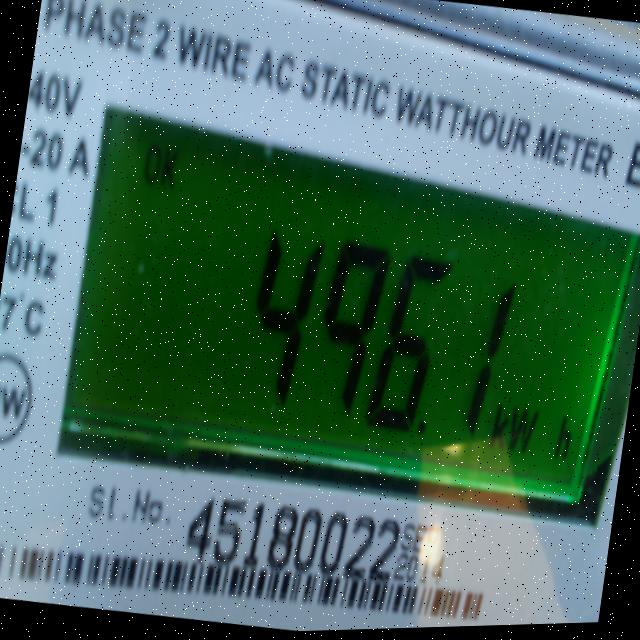.: (412, 415, 434, 450)
1: (449, 261, 522, 454)
4: (242, 217, 330, 414)
6: (366, 249, 462, 452)
9: (308, 227, 393, 435)
